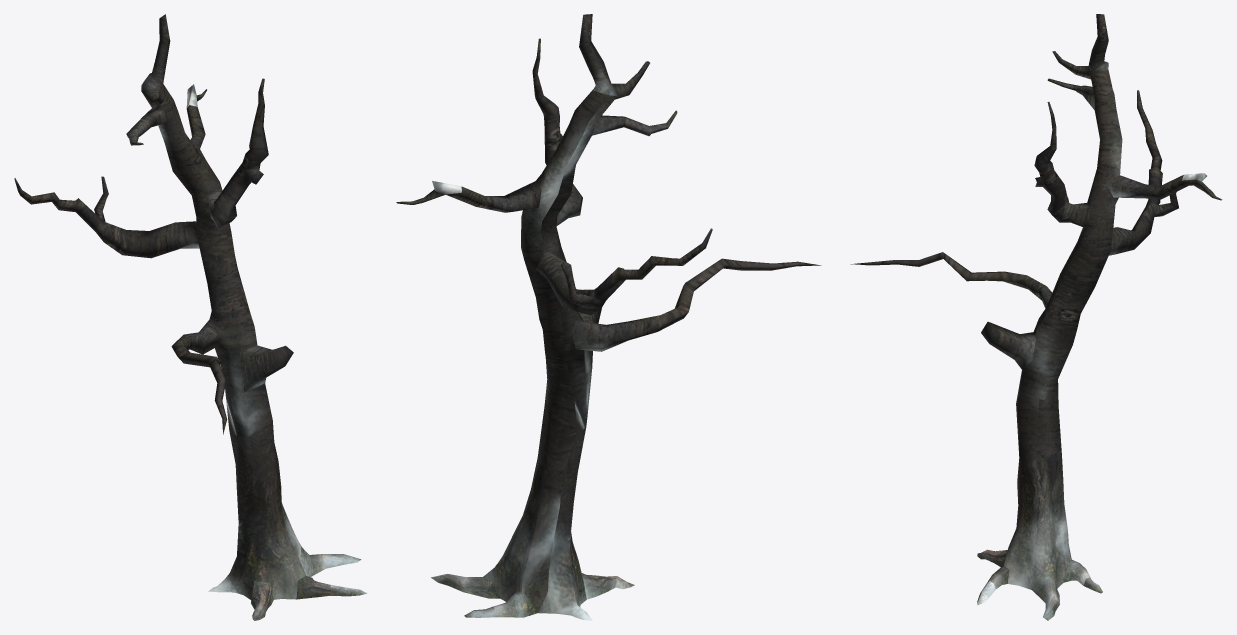
File: shu_01.FBX
3 renders of one model, left to right at view 1: azimuth 30°, elevation 25°; view 2: azimuth 150°, elevation 25°; view 3: azimuth 270°, elevation 25°, orthographic. The views are drawn at different scales.
Parts seen in each view (by area): view 1: s7_huangye_tree_02; view 2: s7_huangye_tree_02; view 3: s7_huangye_tree_02.
Boxes of the visible parts, <box> form: s7_huangye_tree_02: <box>14,14,367,620</box>; s7_huangye_tree_02: <box>396,14,821,620</box>; s7_huangye_tree_02: <box>850,14,1222,620</box>.
Bounding box in the file's own units: 9.53 × 17.17 × 10.92.
